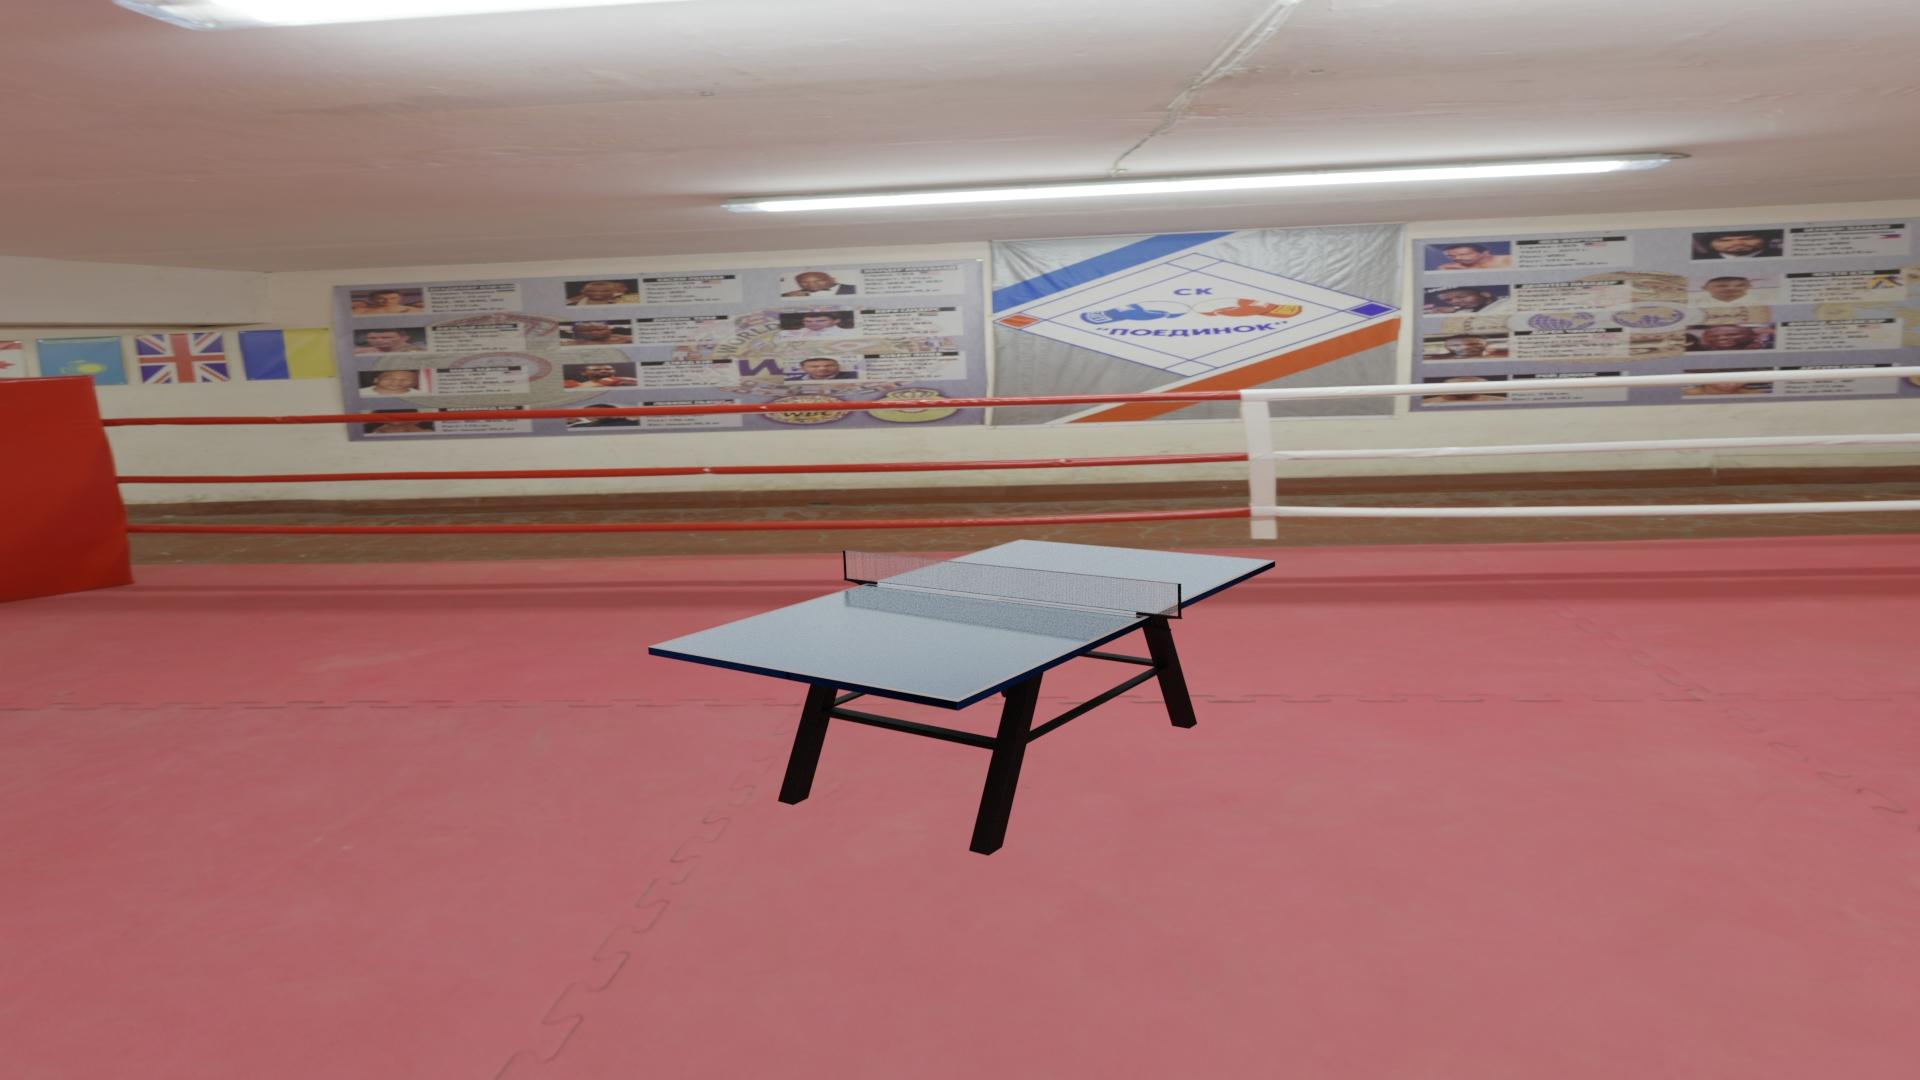table: (654, 541, 1270, 699)
